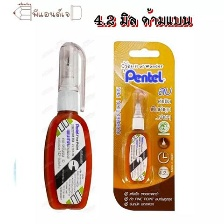book: (108, 37, 178, 212)
correction_fluid: (39, 39, 95, 211), (122, 87, 152, 183)
